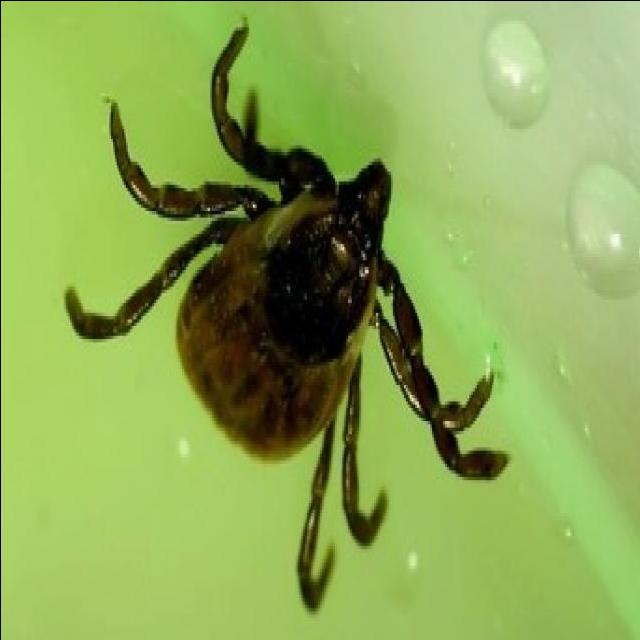Rhipicephalus Sanguineus-F: (65, 16, 509, 614)
